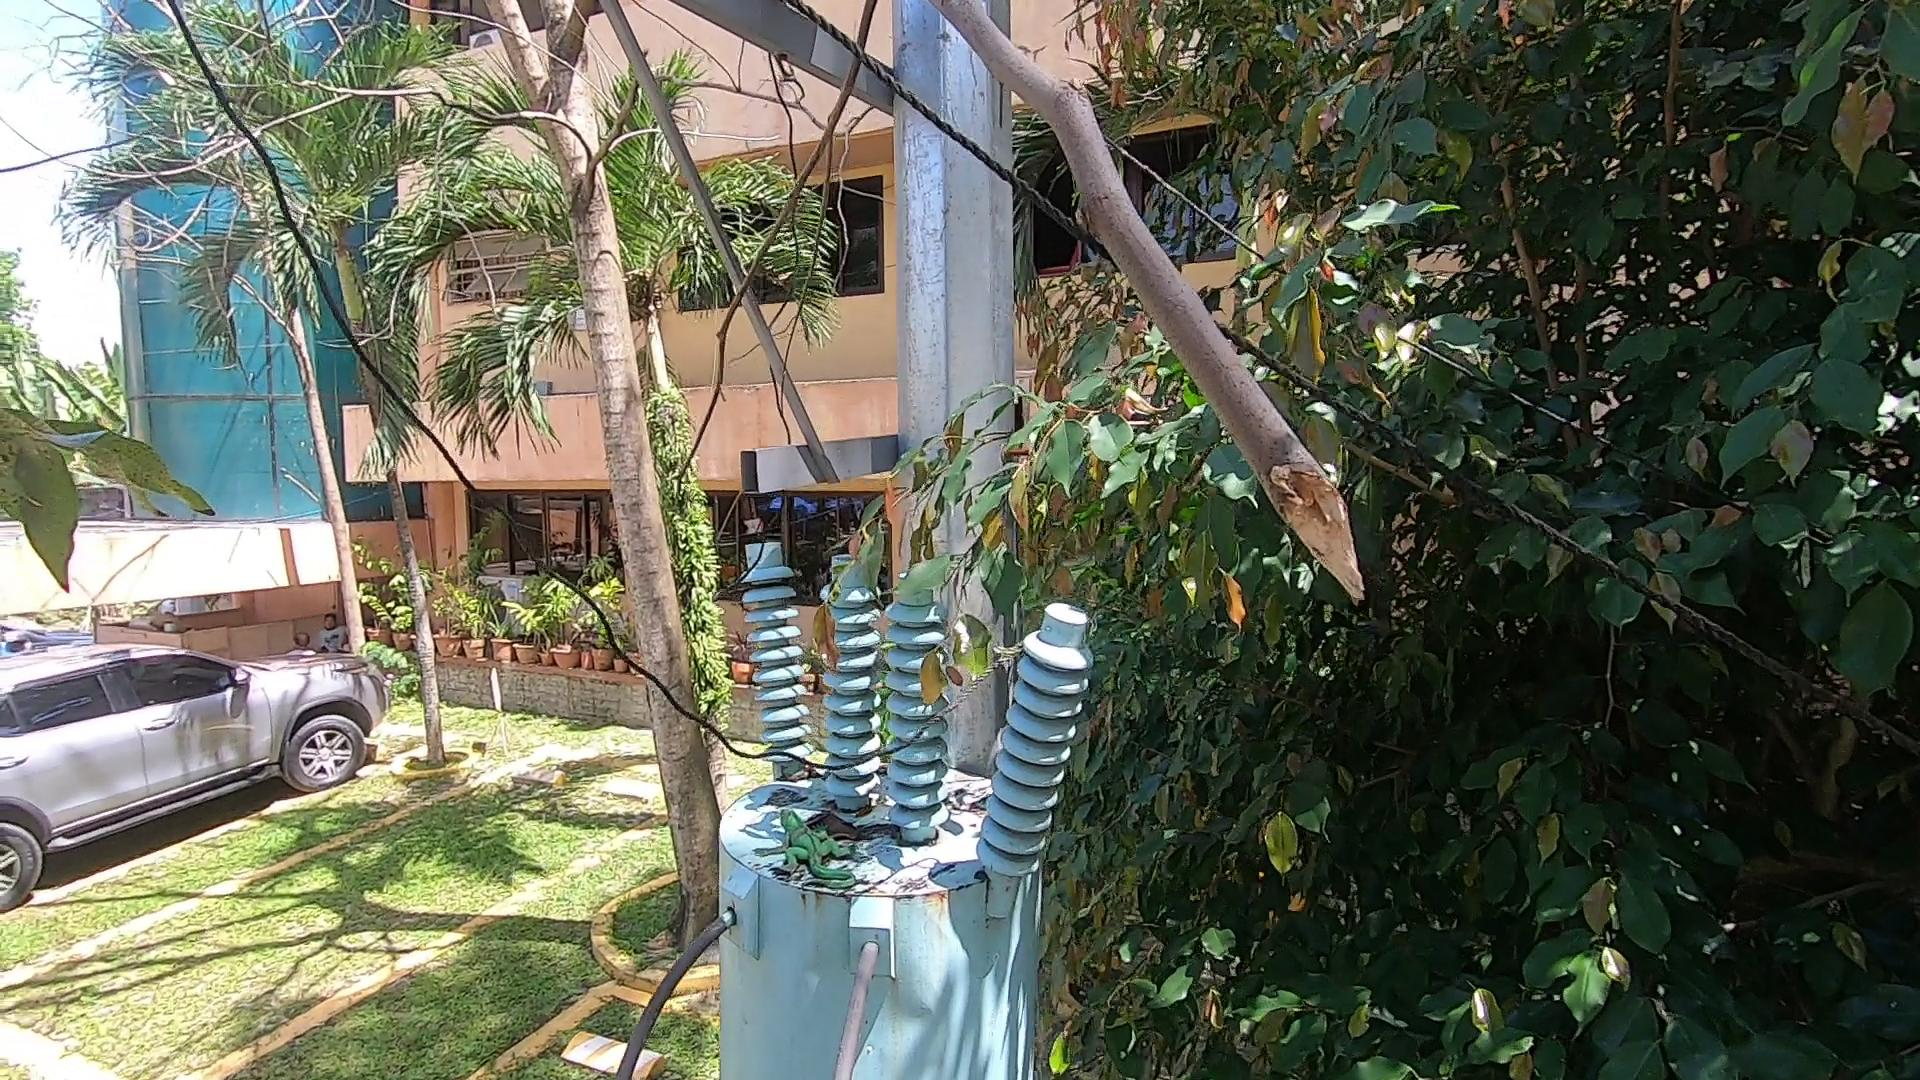branch with leaves: (754, 440, 1093, 711)
leaf: (800, 796, 901, 855), (762, 746, 829, 785), (942, 781, 1004, 822)
tree branch: (766, 3, 1435, 647)
